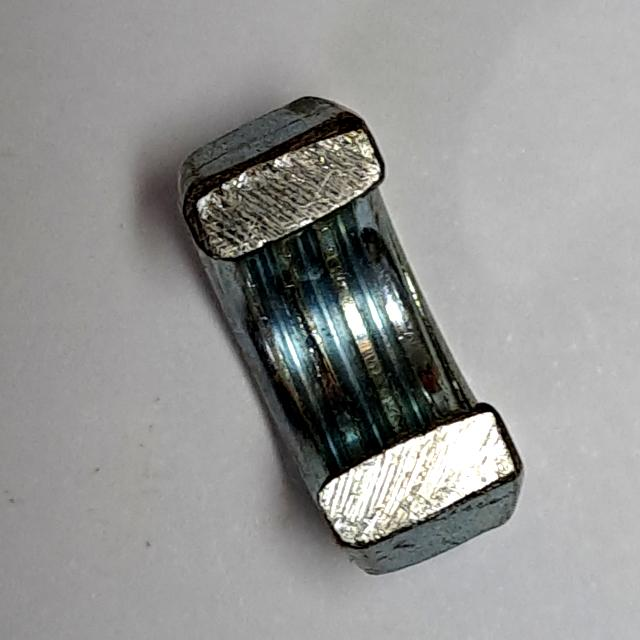Side-Fracture: (162, 79, 538, 592)
